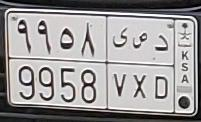5: (59, 26, 77, 103)
8: (80, 21, 98, 104)
9: (16, 19, 36, 101), (37, 19, 56, 101)
D: (153, 34, 169, 100)
V: (112, 27, 128, 97)
X: (132, 31, 148, 99)
